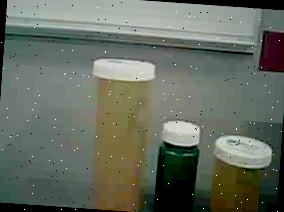Bottle A: (73, 53, 158, 212)
Bottle B: (205, 131, 276, 212)
Bottle C: (151, 116, 205, 212)
